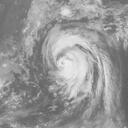cyclone: (41, 24, 96, 97)
